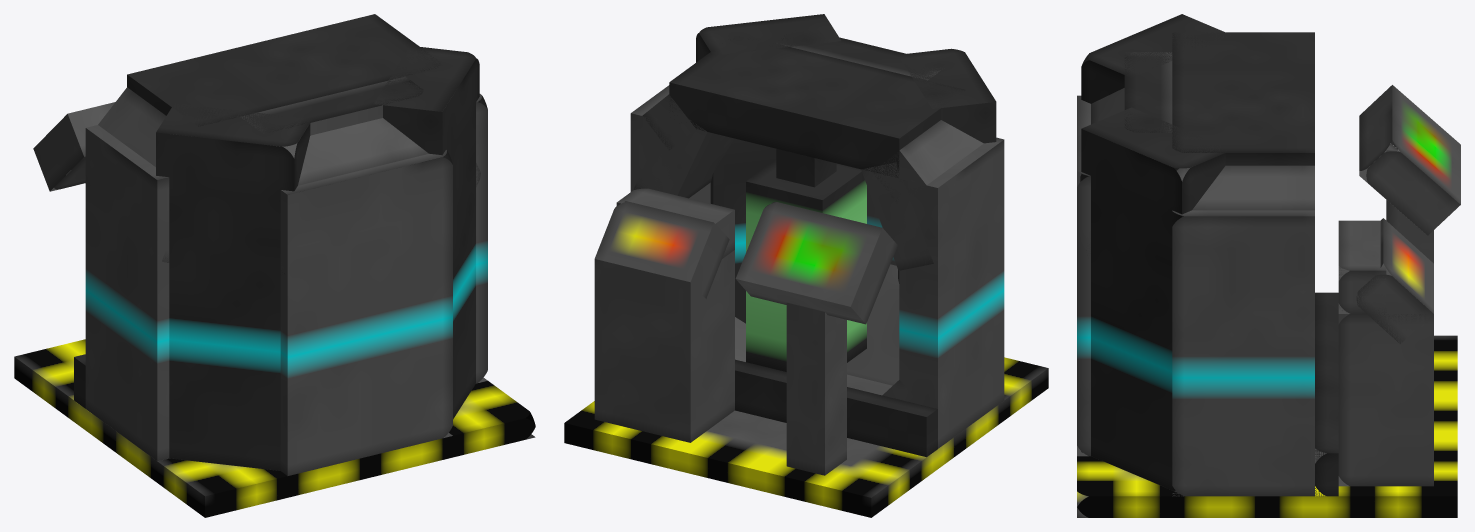
The model's file is plasma_heater.obj.
3 renders of one model, left to right at view 1: azimuth 30°, elevation 25°; view 2: azimuth 150°, elevation 25°; view 3: azimuth 270°, elevation 25°, orthographic. The views are drawn at different scales.
Visible parts, largest first — view 1: b, k, e, a, i, l, n, c, v, h, f, t; view 2: e, i, w, a, v, u, srot, l, x, t, k, j (+8 smaller); view 3: h, l, i, w, a, v, x, k, m, t, b, y (+3 smaller).
Part boxes in pixels (x1,y1,x2,y2): b: [280, 150, 452, 475]; k: [156, 103, 312, 470]; e: [85, 125, 169, 461]; a: [14, 339, 535, 517]; i: [127, 14, 439, 140]; l: [373, 46, 479, 419]; n: [276, 118, 428, 185]; c: [241, 76, 423, 142]; v: [33, 102, 115, 191]; h: [476, 94, 487, 383]; f: [98, 87, 191, 166]; t: [74, 354, 85, 408]; e: [899, 137, 1004, 448]; i: [669, 39, 965, 177]; w: [594, 250, 734, 442]; a: [564, 357, 1048, 517]; v: [735, 202, 897, 324]; u: [786, 302, 846, 475]; srot: [746, 159, 866, 371]; l: [696, 14, 841, 323]; x: [594, 201, 729, 298]; t: [735, 359, 937, 457]; k: [898, 48, 996, 283]; j: [634, 119, 734, 198]; h: [1172, 210, 1314, 496]; l: [1081, 107, 1231, 492]; i: [1172, 32, 1314, 170]; w: [1338, 267, 1433, 486]; a: [1077, 335, 1457, 517]; v: [1359, 85, 1460, 235]; x: [1350, 218, 1433, 343]; k: [1081, 14, 1230, 103]; m: [1177, 165, 1314, 210]; t: [1315, 292, 1338, 496]; b: [1077, 95, 1090, 456]; y: [1338, 220, 1386, 313].
Size of the model in its own units: 1 by 1 by 1.01.
